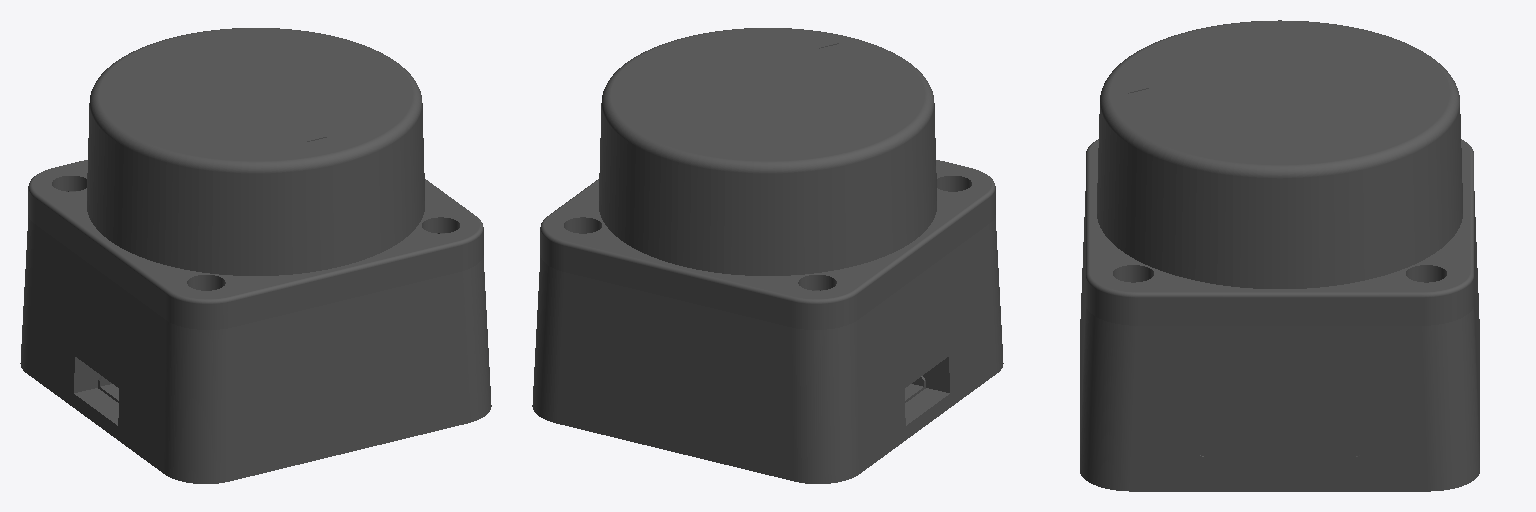
URDF robot description (ld06):
<?xml version="1.0"?>
<robot name="ld06" xmlns:xacro="http://ros.org/wiki/xacro">
  <material name="light_black">
    <color rgba="0.4 0.4 0.4 1.0"/>
  </material>

  <link name="base_link">
    <collision name="ld06_collision">
      <origin xyz="0 0 0.01665" rpy="0 0 0"/>
      <geometry>
        <box size="0.039 0.039 0.0333"/>
      </geometry>
    </collision>

    <visual name="ld06_visual">
      <origin xyz="0.01665 0.0295 -0.003" rpy="0 0 0"/>
      <geometry>
        <mesh filename="package://description/meshes/ld06.stl"/>
      </geometry>
      <material name="light_black"/>
    </visual>
  </link>

  <link name="base_scan"/>

  <joint name="scan_joint" type="fixed">
    <parent link="base_link"/>
    <child link="base_scan"/>
    <origin xyz="0 0 0.0257" rpy="0 0 0"/>
  </joint> 
</robot>

--- Facts derived from the render (not from the file) ---
3 views of the same robot in one strip: view 1: azimuth 30°, elevation 25°; view 2: azimuth 150°, elevation 25°; view 3: azimuth 270°, elevation 25° (orthographic).
Model ld06 with 2 links and 1 joints (1 fixed), rooted at base_link, posed every joint at zero.
Visible links, largest first — view 1: base_link; view 2: base_link; view 3: base_link.
Link boxes in pixels (bbox=[...]): base_link: bbox=[20, 28, 491, 483]; base_link: bbox=[532, 28, 1003, 483]; base_link: bbox=[1080, 20, 1479, 491].
Bounding box of the posed robot: 0.0386 × 0.0386 × 0.0333 m (x, y, z).
Meshes: 1 distinct files referenced, 1 mesh visuals loaded (1 binary STL).